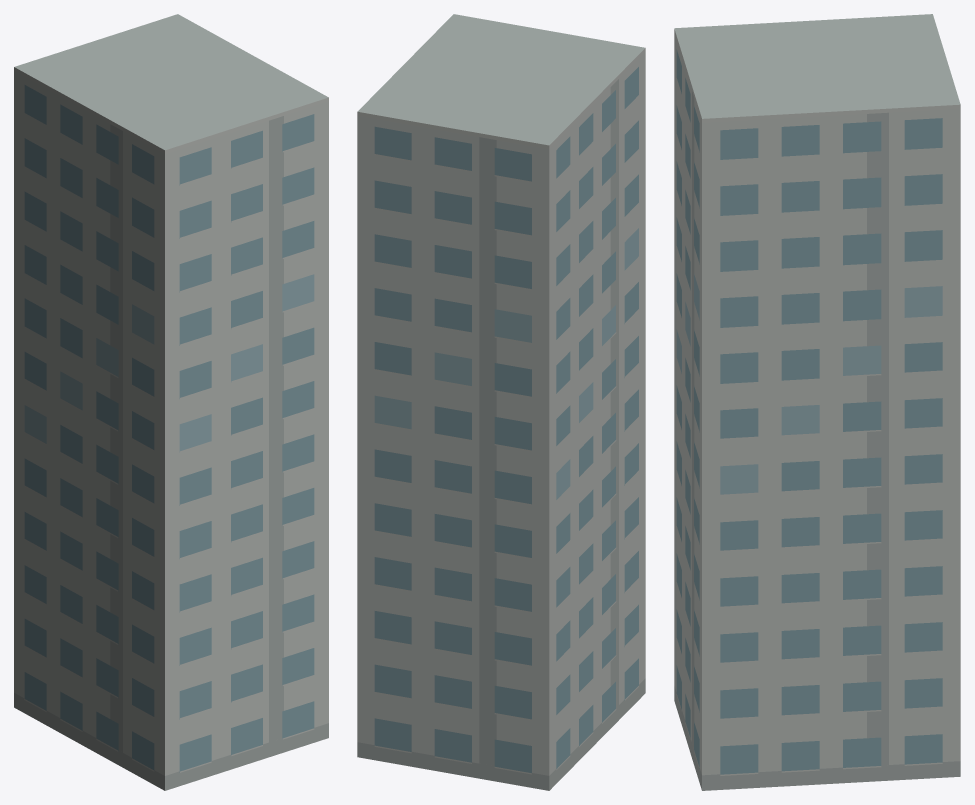
File: residential-5546488f-879f-40f0-b05d-bbc71cfd198d.glb
The picture shows the model from 3 angles, left to right: view 1: azimuth 30°, elevation 25°; view 2: azimuth 150°, elevation 25°; view 3: azimuth 270°, elevation 25°; orthographic projection. The views are drawn at different scales.
Parts seen in each view (by area): view 1: residential-5546488f-879f-40f0-b05d-bbc71cfd198d.tmp; view 2: residential-5546488f-879f-40f0-b05d-bbc71cfd198d.tmp; view 3: residential-5546488f-879f-40f0-b05d-bbc71cfd198d.tmp.
Part boxes in pixels (x1,y1,x2,y2): residential-5546488f-879f-40f0-b05d-bbc71cfd198d.tmp: [14, 14, 328, 790]; residential-5546488f-879f-40f0-b05d-bbc71cfd198d.tmp: [357, 14, 645, 790]; residential-5546488f-879f-40f0-b05d-bbc71cfd198d.tmp: [674, 14, 960, 790].
Size of the model in its own units: 13.4 by 40 by 15.46.
